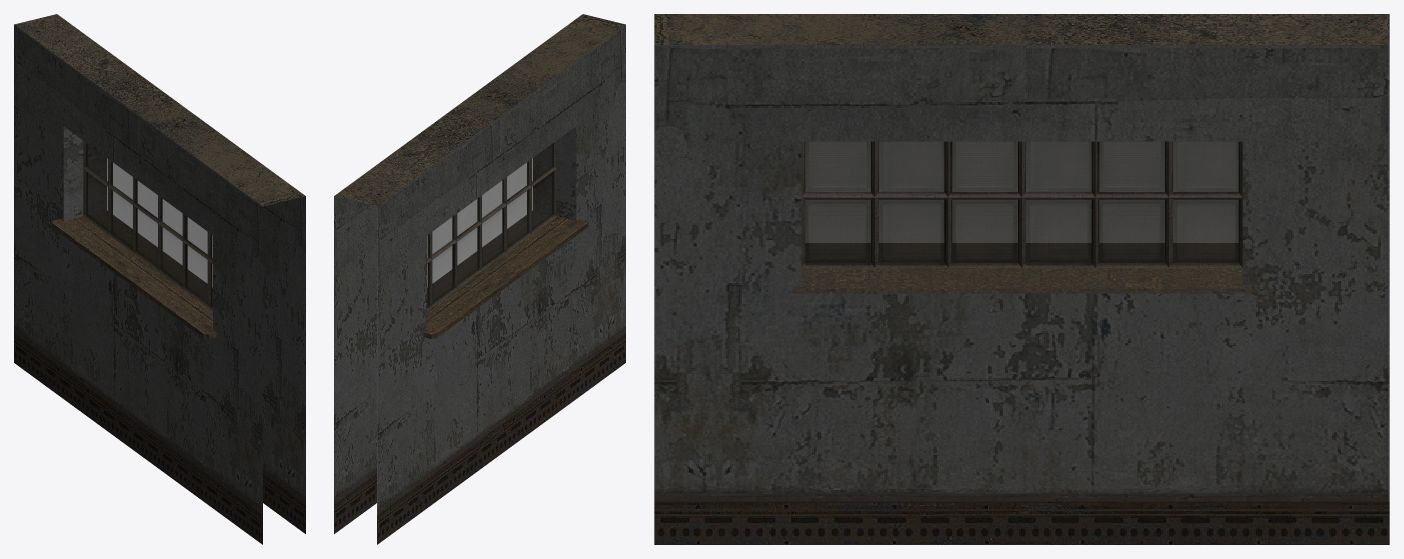
File: window_rtx_1.glb
3 views of the same model, side by side, from view 1: azimuth 30°, elevation 25°; view 2: azimuth 150°, elevation 25°; view 3: azimuth 270°, elevation 25° (orthographic). The views are drawn at different scales.
Parts seen in each view (by area): view 1: window_rtx_1; view 2: window_rtx_1; view 3: window_rtx_1.
Boxes of the visible parts, x1,y1,x2,y2 form: window_rtx_1: [14, 14, 305, 544]; window_rtx_1: [334, 14, 625, 544]; window_rtx_1: [654, 14, 1389, 544].
Size of the model in its own units: 0.545 by 3 by 4.
Materials: 6 (6 with a texture image).
